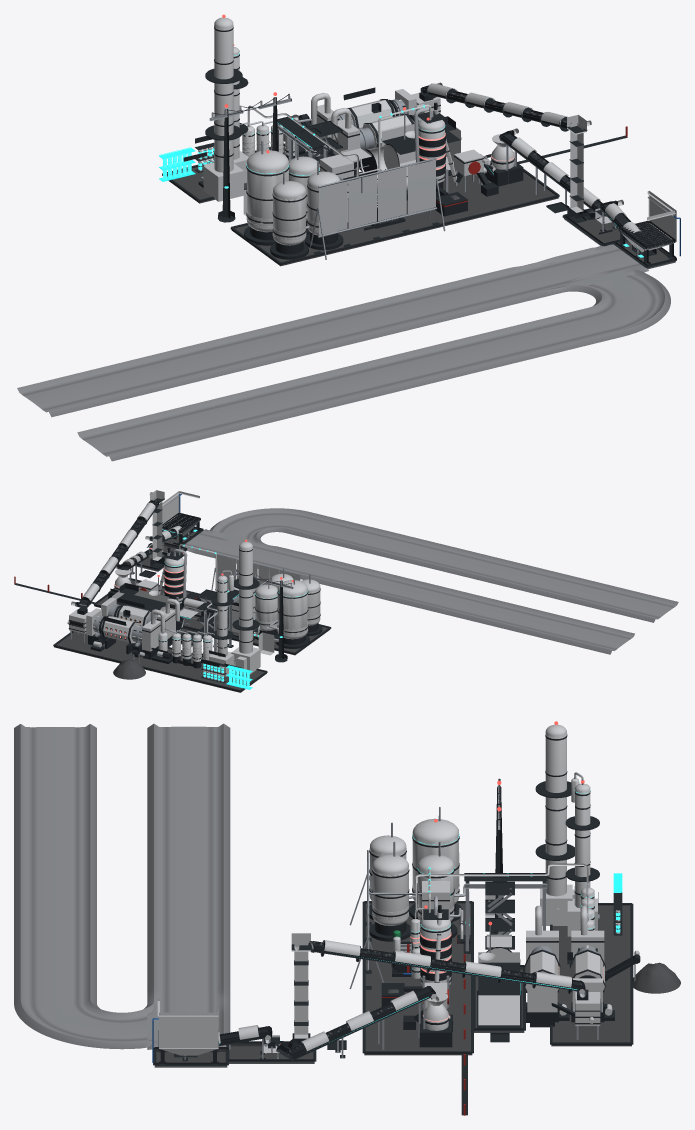
Rendered from refinery_game.glb.
The picture shows the model from 3 angles, top to bottom: view 1: azimuth 30°, elevation 25°; view 2: azimuth 150°, elevation 25°; view 3: azimuth 270°, elevation 25°; orthographic projection. The views are drawn at different scales.
Visible parts, largest first — view 1: Base_Paint, Tier_12, Tier_20, Tier_08, Tier_03; view 2: Base_Paint, Tier_12, Tier_08, Tier_20, Tier_03, Base_GlowCyan, Intake_Grate, Kiln_Drum; view 3: Base_Paint, Tier_12, Tier_20, Tier_08.
Boxes of the visible parts, box(x1,y1,x2,y2) form: Base_Paint: box(17, 47, 680, 461); Tier_12: box(203, 17, 243, 201); Tier_20: box(270, 161, 343, 259); Tier_08: box(331, 104, 429, 173); Tier_03: box(159, 147, 195, 181); Base_Paint: box(14, 490, 678, 692); Tier_12: box(231, 541, 260, 674); Tier_08: box(101, 597, 179, 646); Tier_20: box(269, 568, 322, 636); Tier_03: box(226, 665, 252, 689); Base_GlowCyan: box(159, 529, 307, 681); Intake_Grate: box(162, 513, 198, 530); Kiln_Drum: box(93, 615, 143, 643); Base_Paint: box(14, 723, 680, 1115); Tier_12: box(535, 724, 574, 925); Tier_20: box(366, 822, 415, 941); Tier_08: box(524, 905, 574, 1027).
Bounding box in the file's own units: 62 × 15.15 × 45.02.
